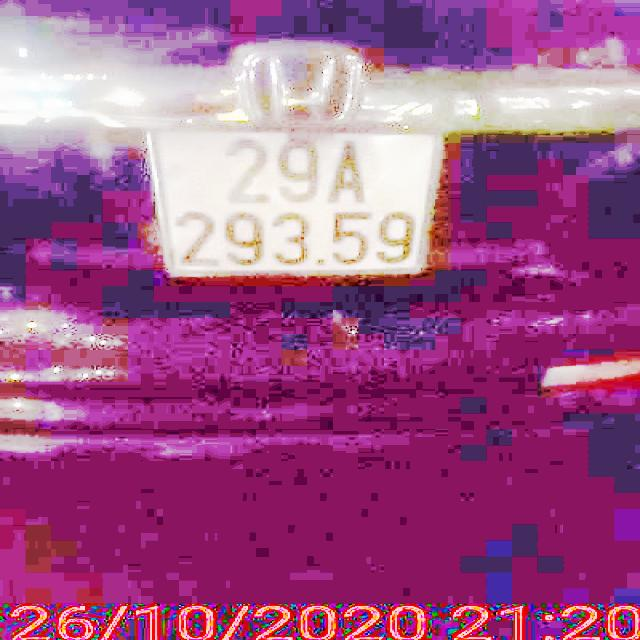license_plate: (149, 134, 440, 272)
